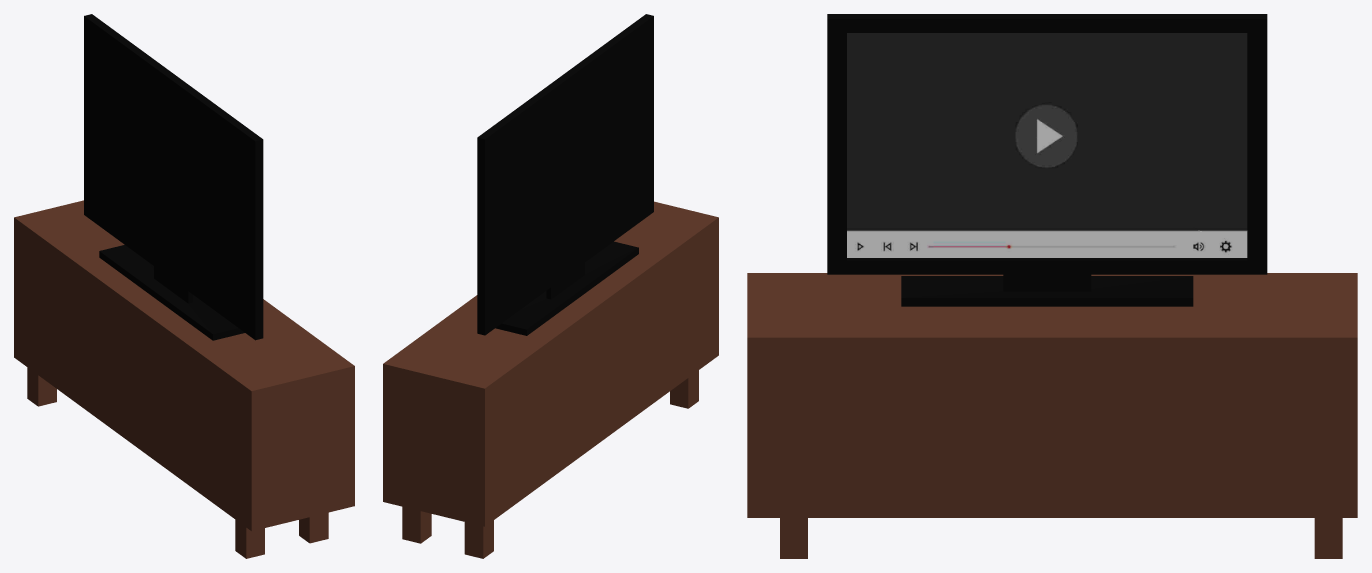
Rendered from 3DLink_Video.glb.
3 views of the same model, side by side, from view 1: azimuth 30°, elevation 25°; view 2: azimuth 150°, elevation 25°; view 3: azimuth 270°, elevation 25° (orthographic). The views are drawn at different scales.
Parts seen in each view (by area): view 1: Spot_Video.003, Spot_Bild.011, Cube.209, Cube.211, Cube.208; view 2: Spot_Video.003, Spot_Bild.011, Cube.211, Cube.210, Cube.209; view 3: Spot_Video.003, Spot_Bild.011, Cube.210, Cube.208.
Boxes of the visible parts, box(x1,y1,x2,y2) form: Spot_Video.003: box(14, 200, 354, 531); Spot_Bild.011: box(84, 14, 263, 340); Cube.209: box(235, 520, 264, 558); Cube.211: box(27, 367, 56, 406); Cube.208: box(299, 512, 328, 543); Spot_Video.003: box(383, 201, 718, 526); Spot_Bild.011: box(477, 14, 653, 335); Cube.211: box(464, 520, 493, 558); Cube.210: box(402, 506, 431, 543); Cube.209: box(670, 370, 698, 408); Spot_Video.003: box(747, 273, 1357, 517); Spot_Bild.011: box(827, 14, 1267, 306); Cube.210: box(1314, 518, 1342, 558); Cube.208: box(780, 518, 807, 558).
Size of the model in its own units: 0.5025 by 1.85 by 2.
Materials: 3 (1 with a texture image).
